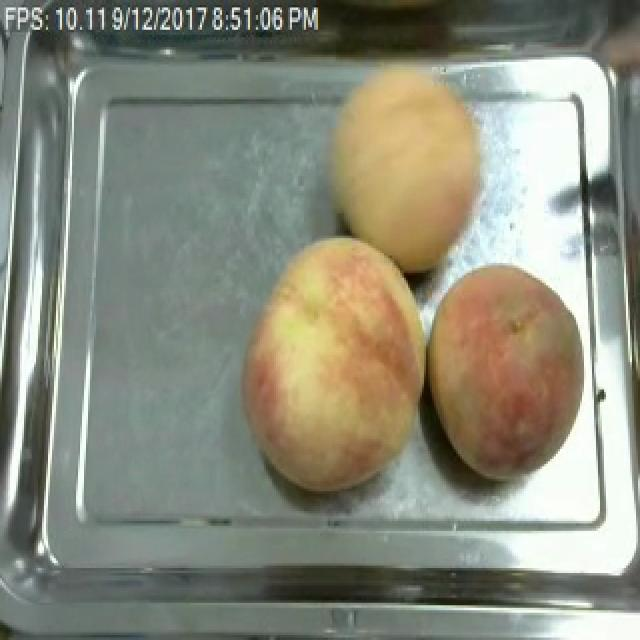Fruit: (232, 231, 438, 498), (420, 258, 598, 489), (314, 57, 492, 278)
